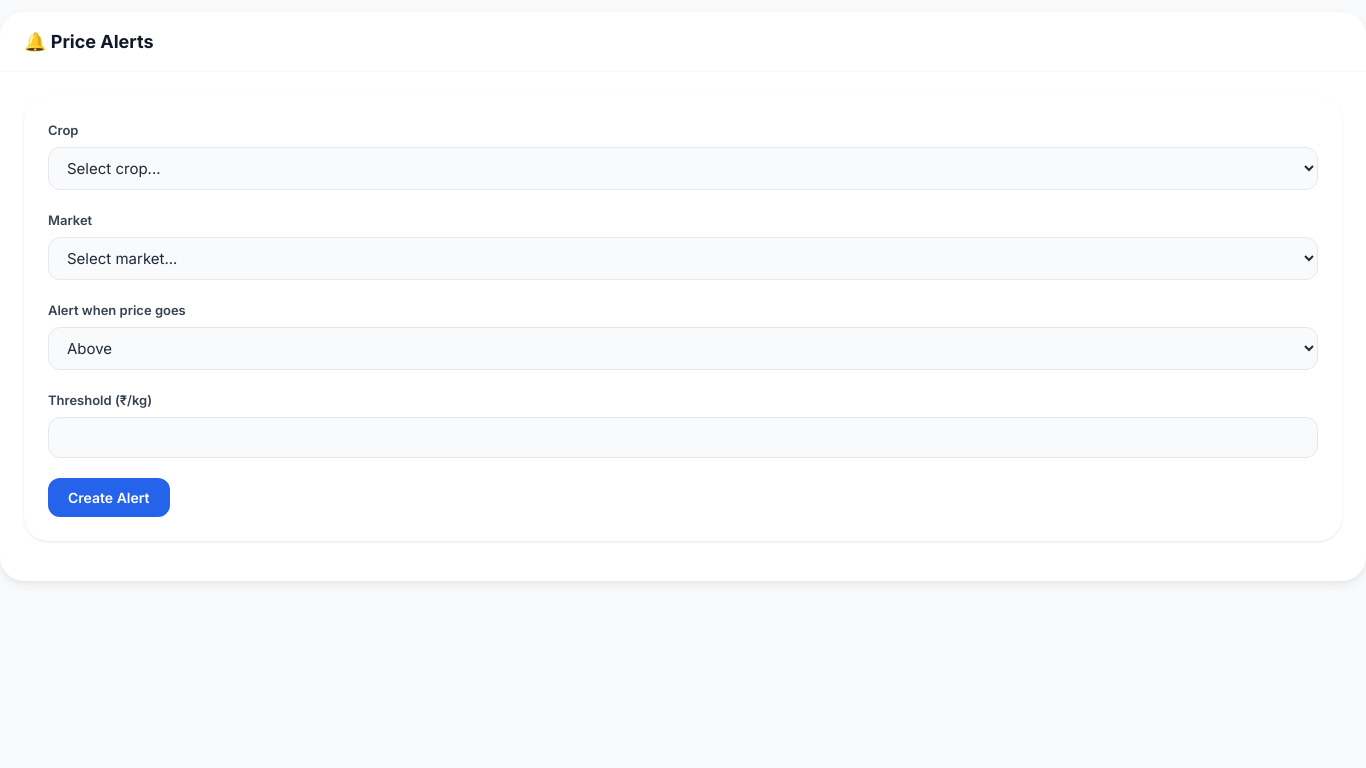
PriceAlertConfig › shows success message after creating alert
The width and height of the screenshot is (1366, 768).
Select "Rice" in the dropdown with test id "alert-crop-select". click: (683, 169)
box: [48, 147, 1318, 190]
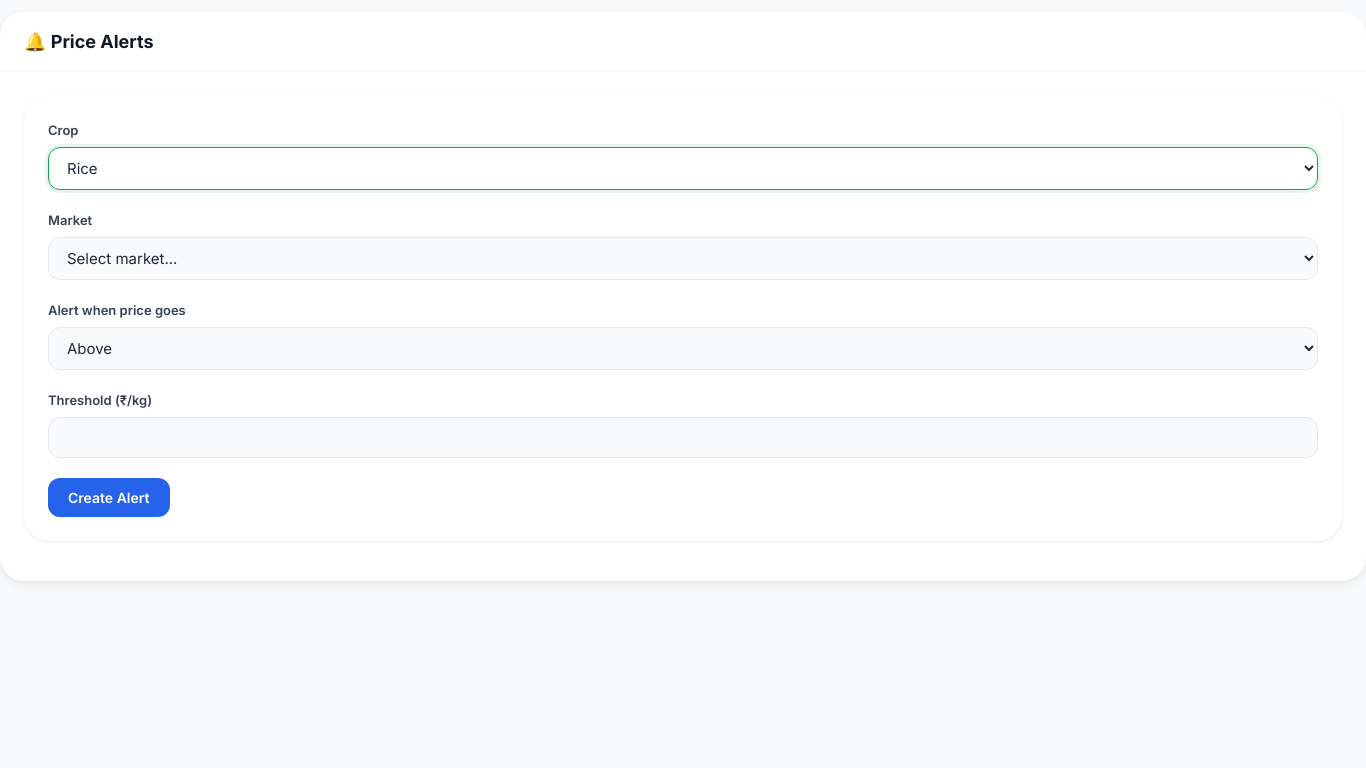
Select "Azadpur Mandi" in the dropdown with test id "alert-market-select". click: (683, 258)
box: [48, 237, 1318, 280]
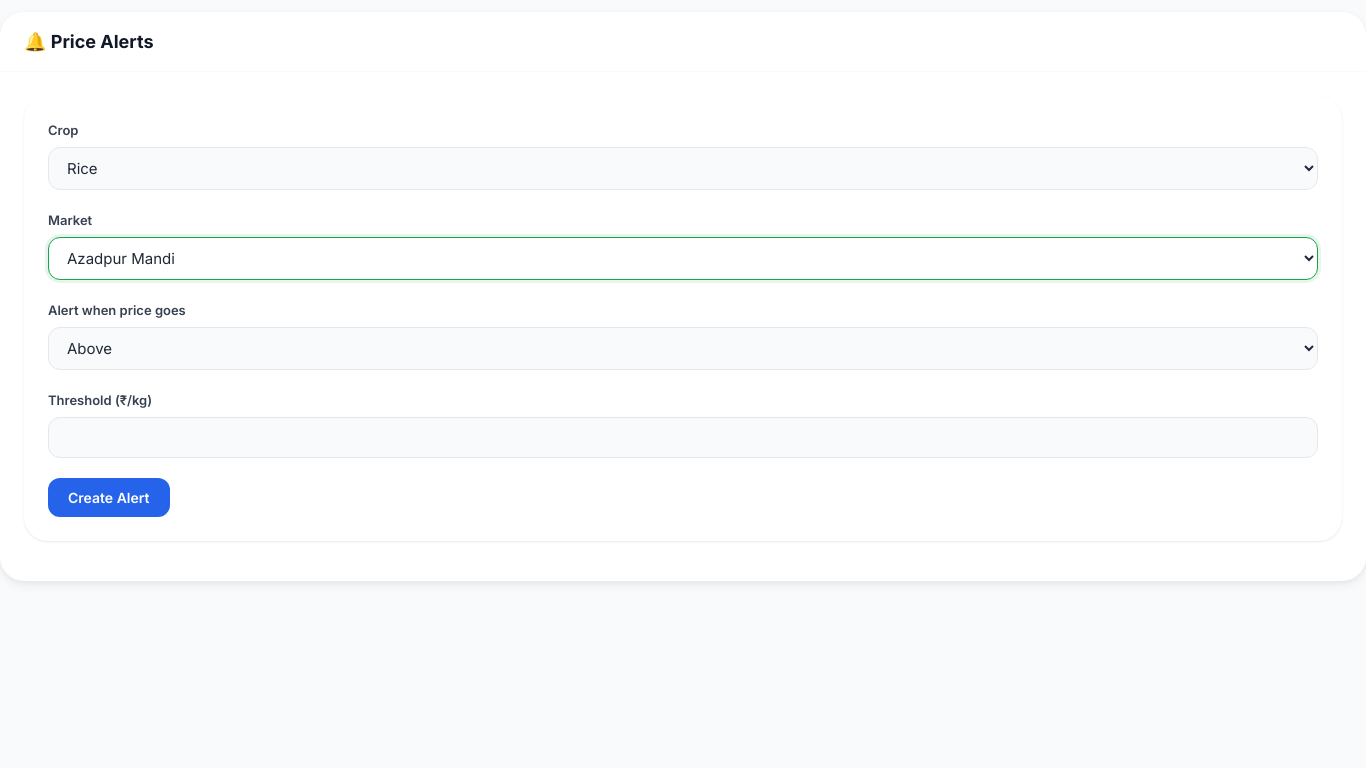
Type "20" into the number field with test id "alert-threshold-input". click: (683, 437)
box: [48, 417, 1318, 458]
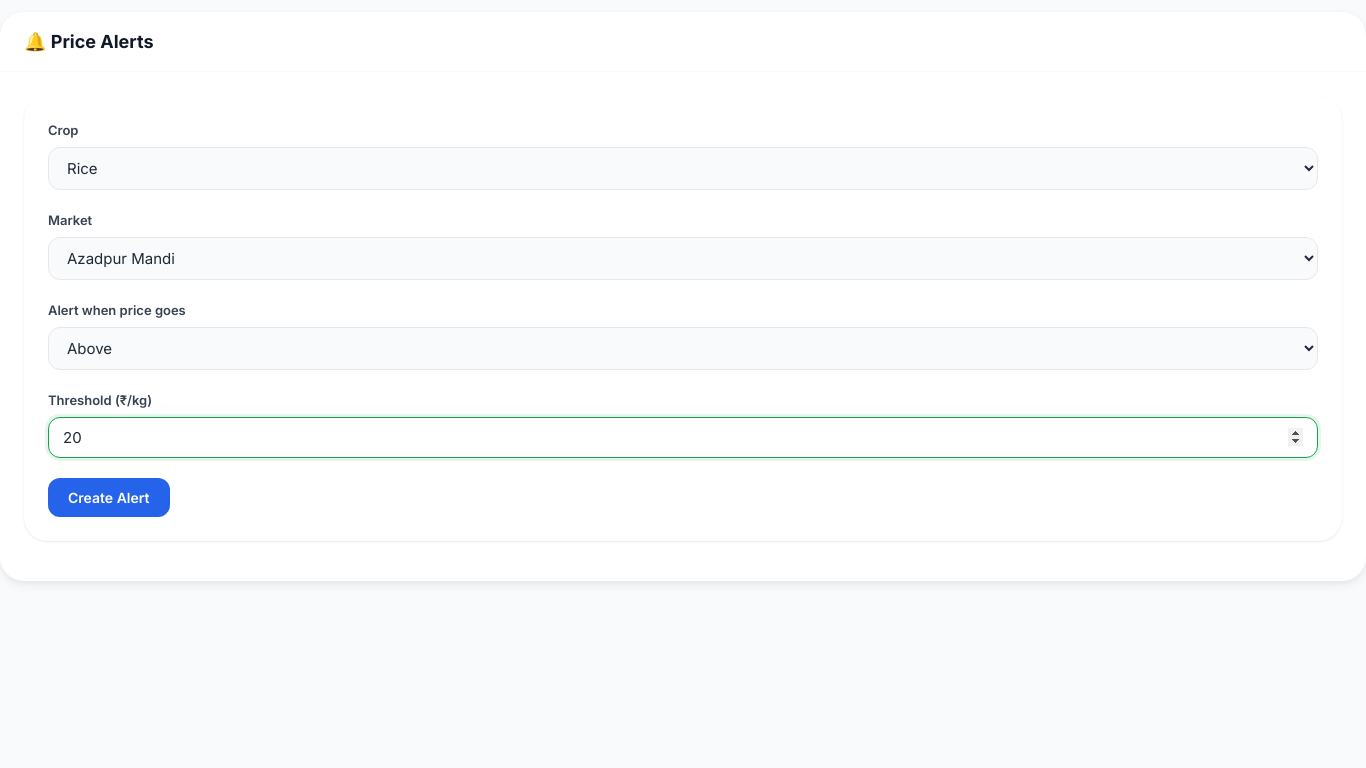
Click the button with test id "create-alert-btn". click: (109, 497)
box: [48, 478, 170, 517]
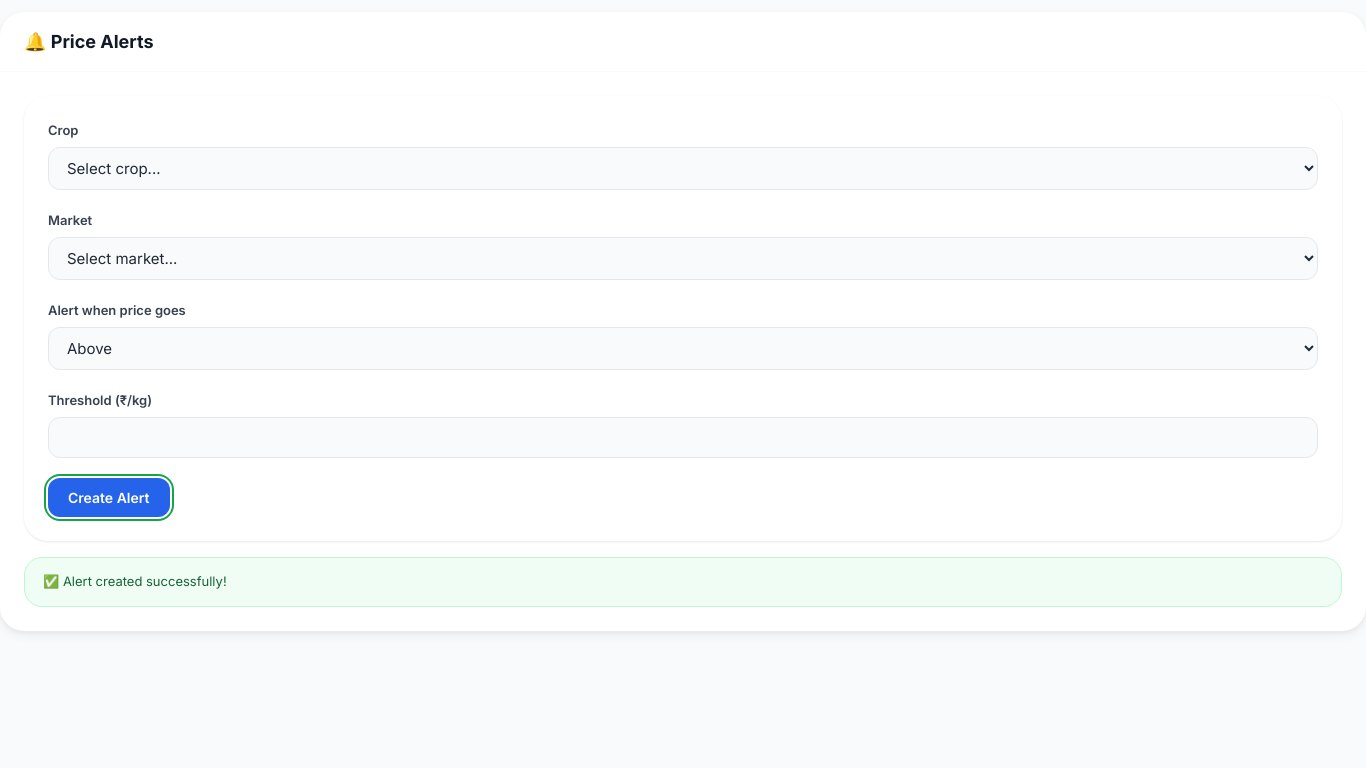
Check: the message "✅ Alert created successfully!" is shown, box [24, 557, 1342, 607]
